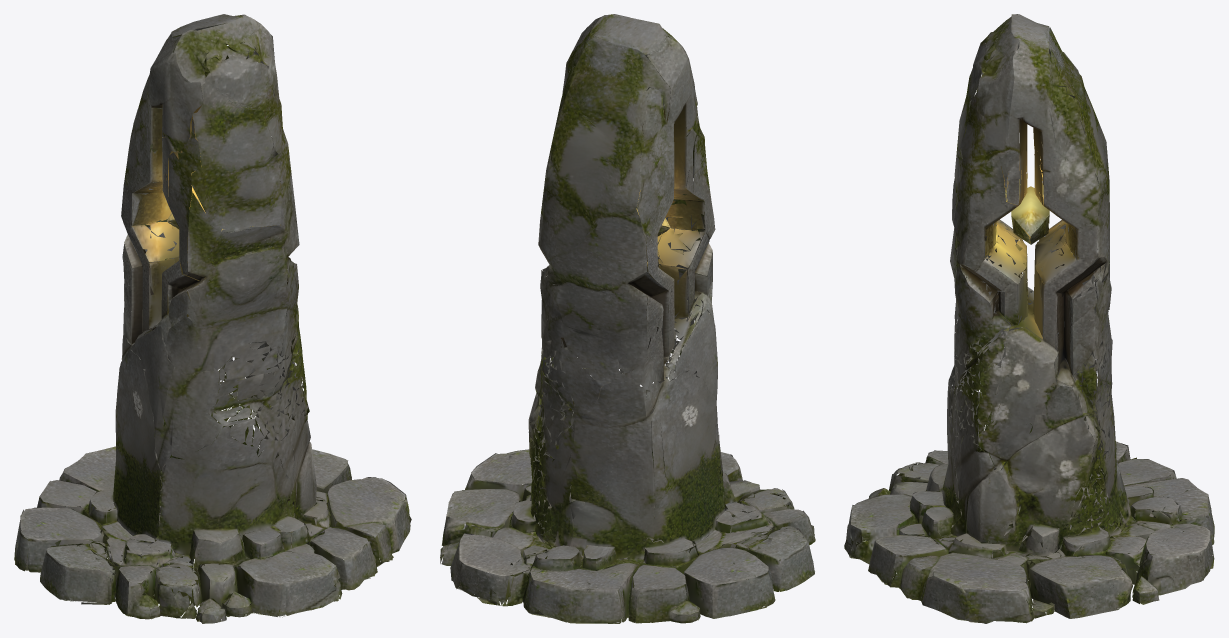
Rendered from title.glb.
3 views of the same model, side by side, from view 1: azimuth 30°, elevation 25°; view 2: azimuth 150°, elevation 25°; view 3: azimuth 270°, elevation 25° (orthographic). The views are drawn at different scales.
Visible parts, largest first — view 1: node_0; view 2: node_0; view 3: node_0.
Part boxes in pixels (left/top/right/bottom): node_0: left=14, top=14, right=411, bottom=623; node_0: left=440, top=14, right=815, bottom=623; node_0: left=844, top=14, right=1214, bottom=623.
Size of the model in its own units: 1.56 by 2.31 by 1.5.
1 material, 1 textured.
